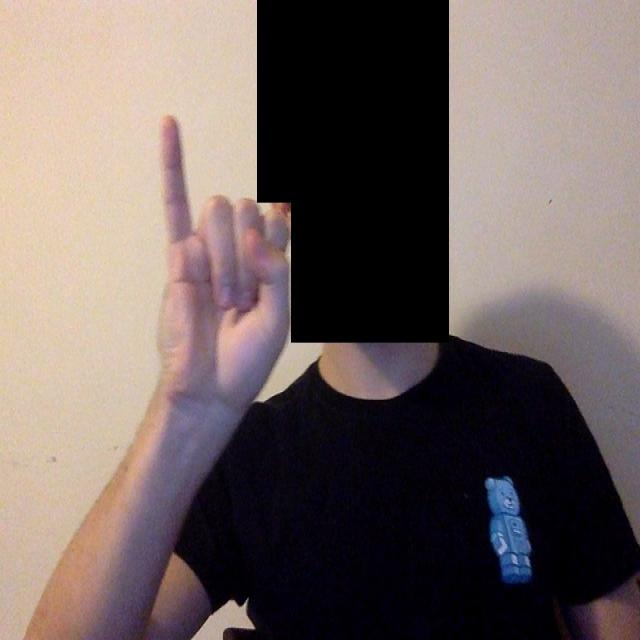I: (133, 98, 299, 426)
